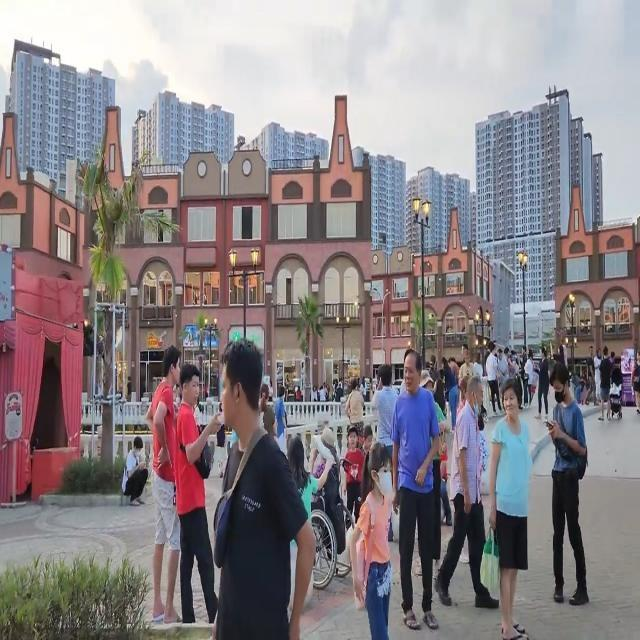hairnet: (469, 385, 483, 413)
